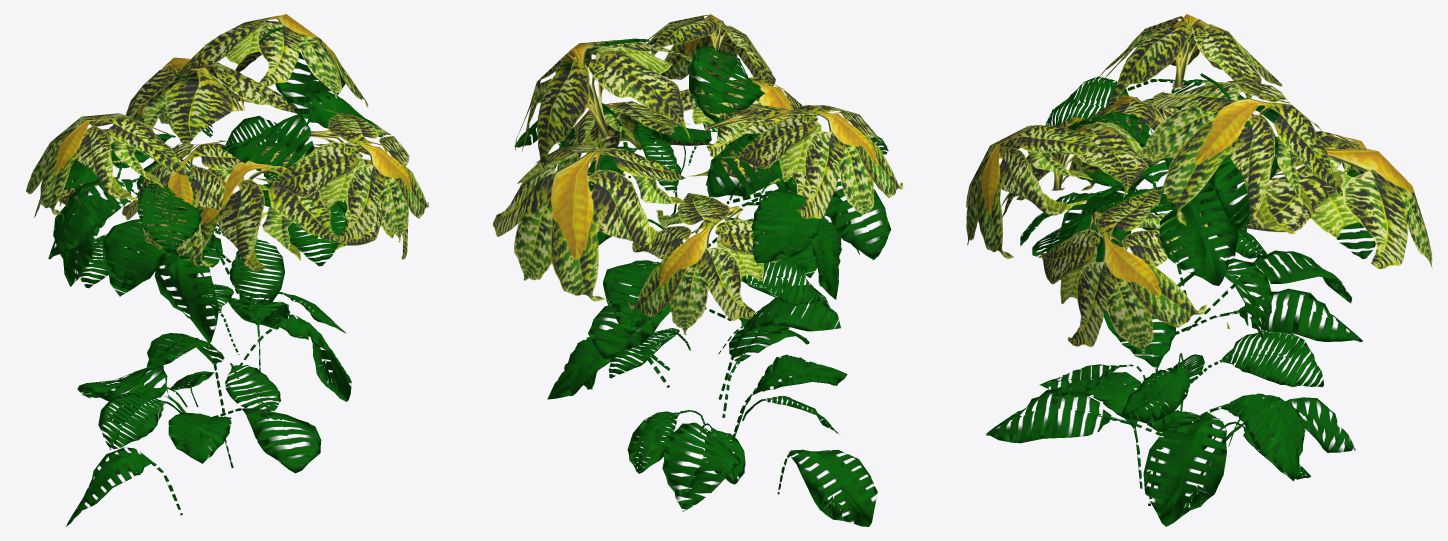
Rendered from low.poly.world.tree.oneleaves.glb.
3 renders of one model, left to right at view 1: azimuth 30°, elevation 25°; view 2: azimuth 150°, elevation 25°; view 3: azimuth 270°, elevation 25°, orthographic. The views are drawn at different scales.
Visible parts, largest first — view 1: leaves.006, leaves.003, leaves.008, leaves.001, leaves.004, leaves.007, leaf_010_mesh.014, leaf_010_mesh.010, leaf_010_mesh.024, leaf_010_mesh.001, leaf_010_mesh.004, leaf_010_mesh.006 (+20 smaller); view 2: leaves.001, leaves.005, leaves.003, leaves.004, leaves.006, leaf_010_mesh.028, leaf_010_mesh.022, leaf_010_mesh.019, leaf_010_mesh.004, leaves.002, leaf_010_mesh.023, leaves.008 (+18 smaller); view 3: leaves.004, leaves.002, leaves.001, leaves.006, leaves.003, leaf_010_mesh.038, leaf_010_mesh.002, leaf_010_mesh.037, leaves.008, leaf_010_mesh.024, leaf_010_mesh.029, leaf_010_mesh.033 (+18 smaller).
Boxes of the visible parts, x1,y1,x2,y2 form: leaves.006: (255, 109, 428, 242); leaves.003: (26, 113, 196, 215); leaves.008: (193, 145, 346, 271); leaves.001: (126, 57, 300, 143); leaves.004: (152, 14, 368, 107); leaves.007: (122, 140, 271, 266); leaf_010_mesh.014: (102, 219, 224, 296); leaf_010_mesh.010: (154, 228, 220, 343); leaf_010_mesh.024: (211, 408, 321, 473); leaf_010_mesh.001: (138, 184, 201, 253); leaf_010_mesh.004: (222, 115, 314, 173); leaf_010_mesh.006: (48, 166, 190, 259); leaves.001: (493, 144, 685, 301); leaves.005: (628, 193, 780, 334); leaves.003: (721, 105, 902, 218); leaves.004: (515, 39, 691, 167); leaves.006: (644, 14, 775, 86); leaf_010_mesh.028: (777, 449, 877, 526); leaf_010_mesh.022: (662, 422, 740, 511); leaf_010_mesh.019: (751, 190, 820, 263); leaf_010_mesh.004: (689, 46, 764, 185); leaves.002: (553, 101, 711, 176); leaf_010_mesh.023: (718, 284, 840, 399); leaves.008: (680, 77, 802, 181); leaves.004: (1136, 80, 1342, 234); leaves.002: (1039, 188, 1229, 355); leaves.001: (1247, 144, 1432, 269); leaves.006: (966, 125, 1135, 258); leaves.003: (1099, 14, 1282, 104); leaf_010_mesh.038: (1143, 411, 1226, 526); leaf_010_mesh.002: (1159, 181, 1238, 285); leaf_010_mesh.037: (1193, 393, 1305, 481); leaves.008: (1001, 116, 1175, 217); leaf_010_mesh.024: (986, 388, 1173, 443); leaf_010_mesh.029: (1190, 330, 1323, 387); leaf_010_mesh.033: (1175, 288, 1362, 341).
Bounding box in the file's own units: 9.66 × 11.31 × 10.02.
Materials: 3 (3 with a texture image).
